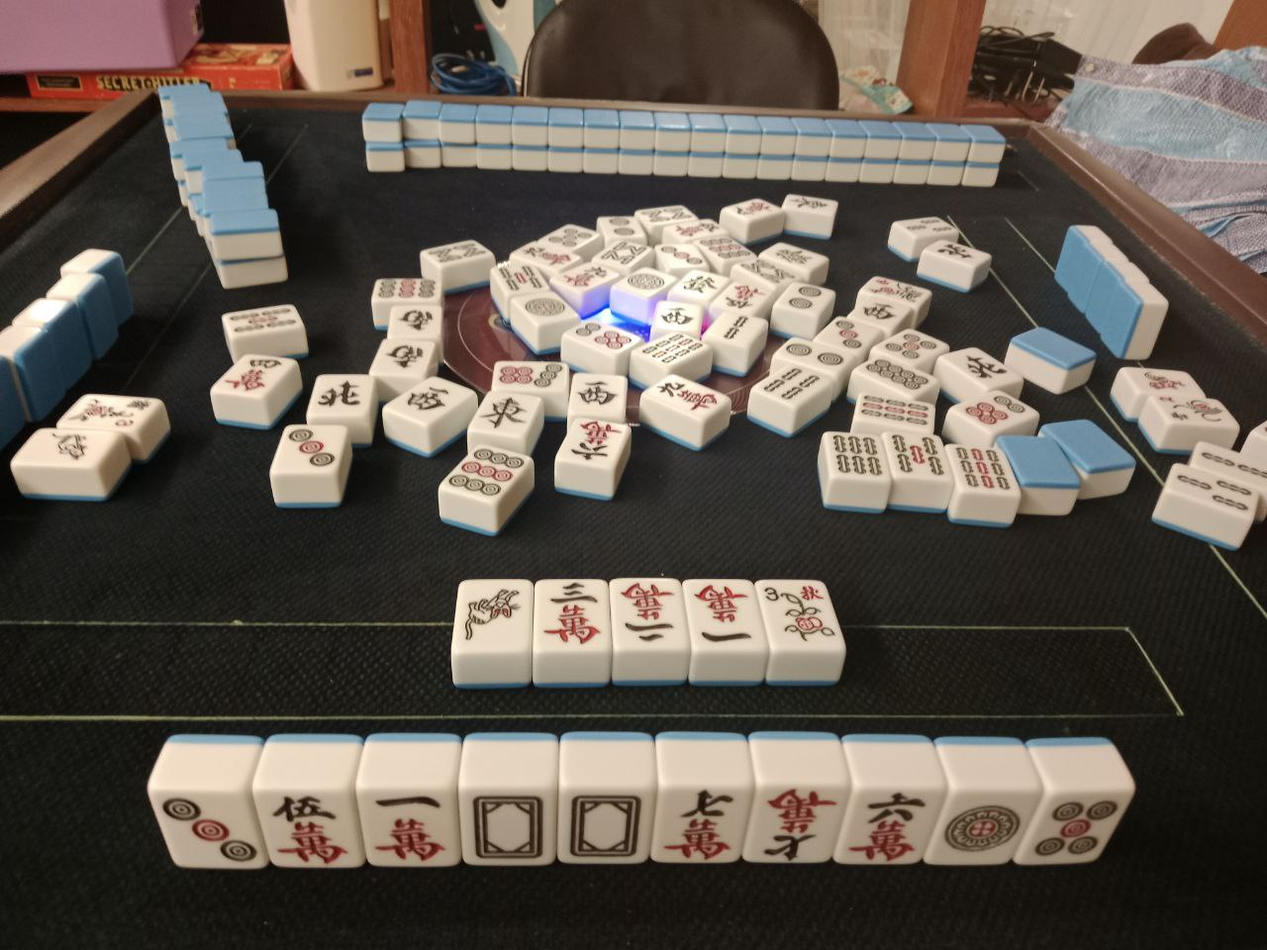TILE: (147, 784, 269, 871), (260, 785, 365, 872), (355, 785, 462, 863), (457, 784, 557, 864), (553, 786, 656, 863), (752, 783, 846, 864), (941, 786, 1033, 867), (658, 787, 752, 866), (848, 786, 937, 864), (1032, 789, 1122, 865), (453, 577, 534, 660), (609, 574, 688, 657), (758, 578, 846, 651), (686, 576, 764, 652), (533, 581, 611, 654)
